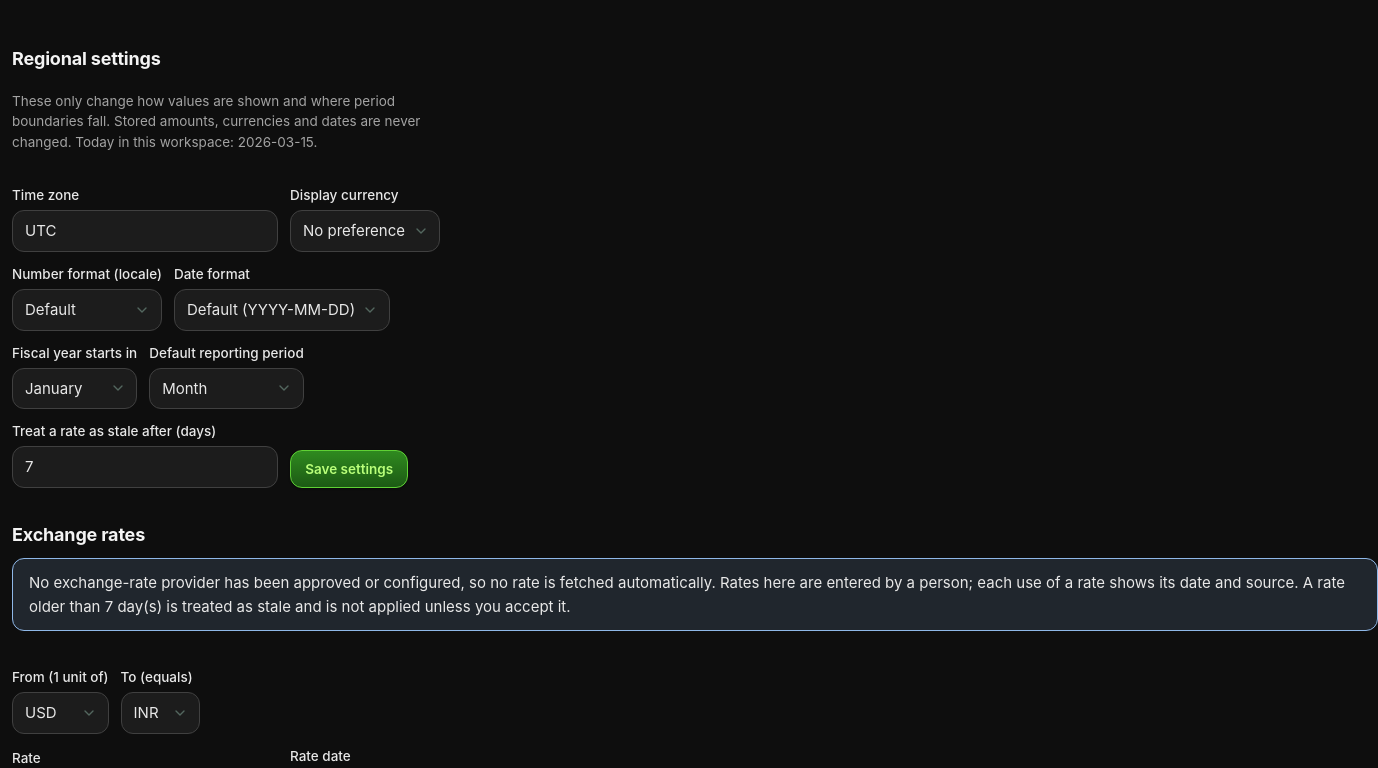
it: regional settings › shows defaults, validates, saves the chosen preferences and confirms
This screenshot has width=1378, height=768.
Expected: the form "Regional settings" is shown, top-left (12, 24), bottom-right (462, 500)
Expected: the text "never changed" is shown, top-left (12, 92), bottom-right (420, 150)
Select "en-IN" in the dropdown labelled "Number format (locale)" at (87, 310), box top-left (12, 289), bottom-right (162, 331)
Select "DD/MM/YYYY" in the dropdown labelled "Date format" at (282, 310), box top-left (174, 289), bottom-right (390, 331)
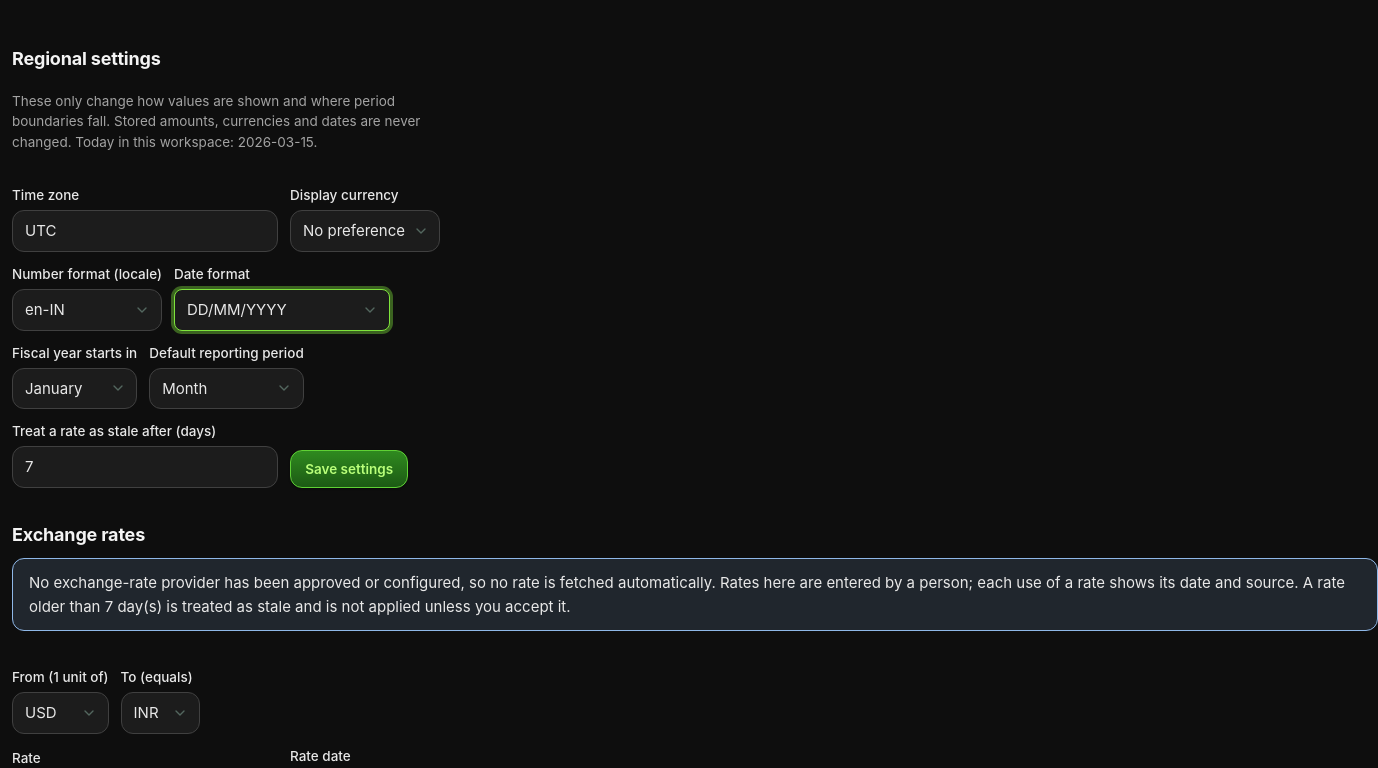
Select "April" in the dropdown labelled "Fiscal year starts in" at (75, 388), box top-left (12, 368), bottom-right (137, 409)
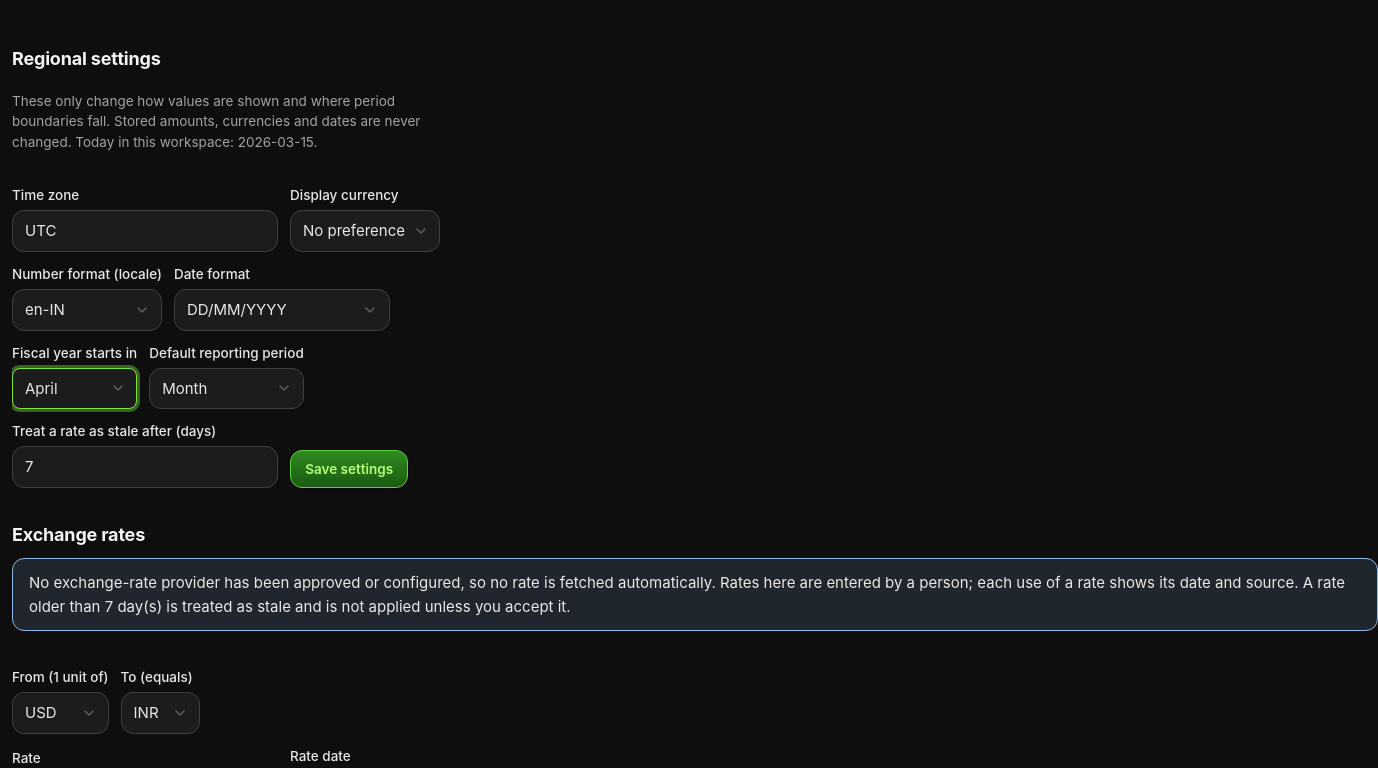
Select "USD" in the dropdown labelled "Display currency" at (365, 231), box top-left (290, 210), bottom-right (440, 252)
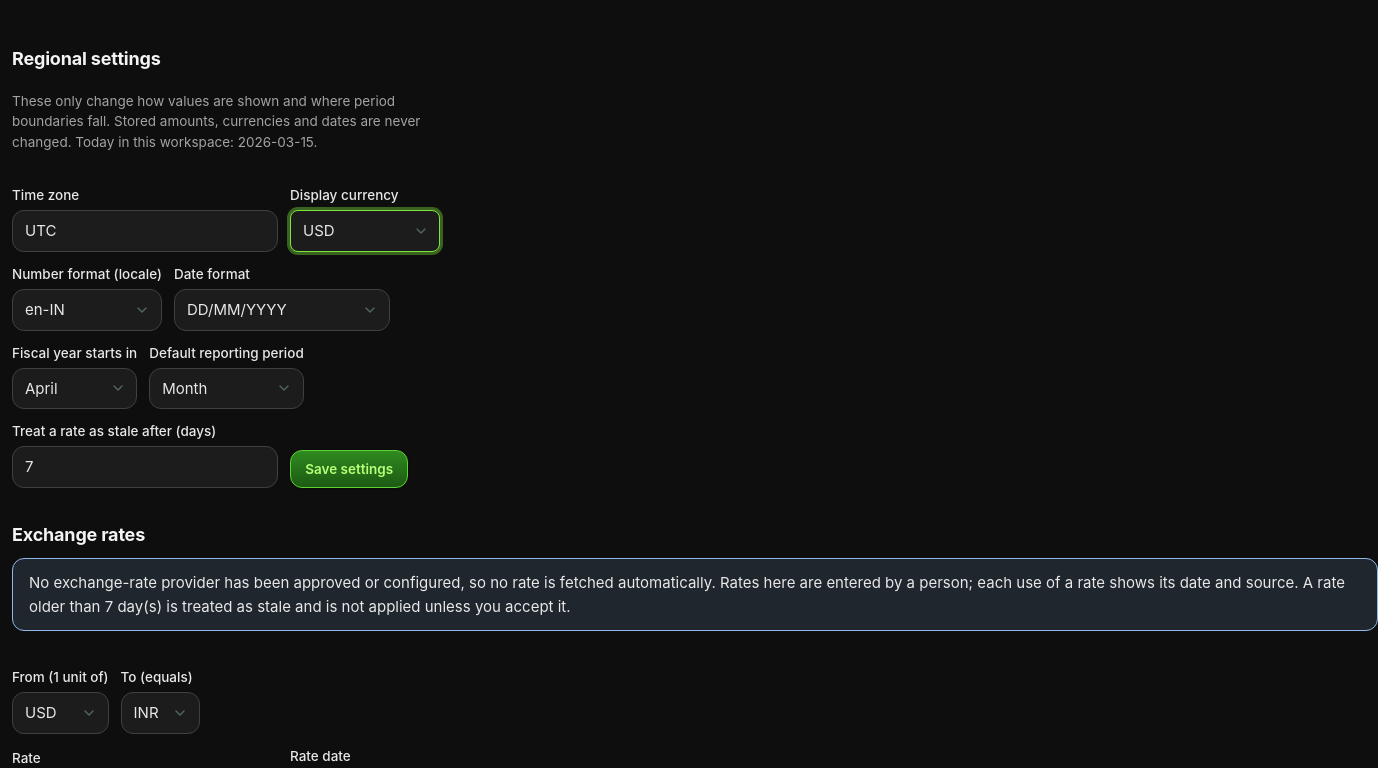
Replace the text in the field labelled "Treat a rate as stale after (days)" with "999" at (145, 467), box top-left (12, 446), bottom-right (278, 488)
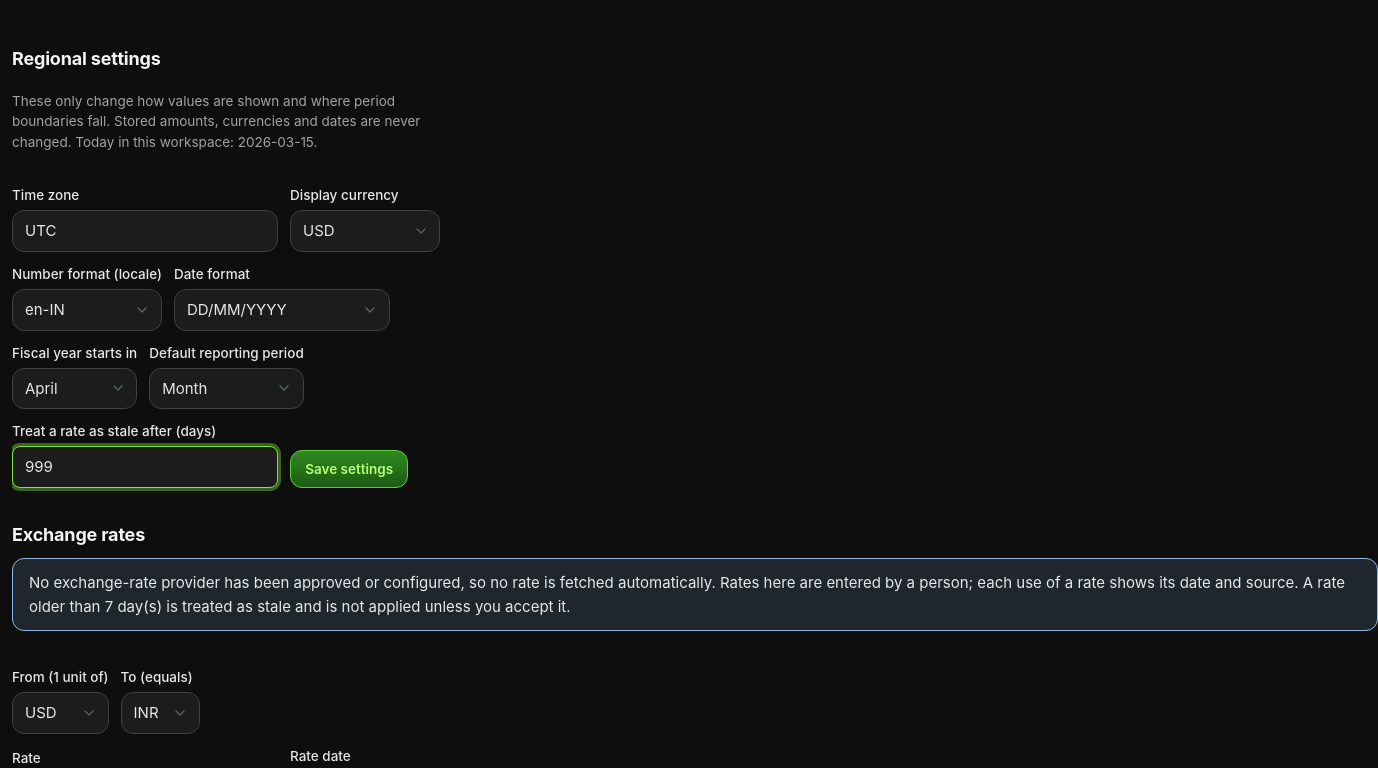
Click the button "Save settings" at (349, 469), box top-left (290, 450), bottom-right (408, 488)
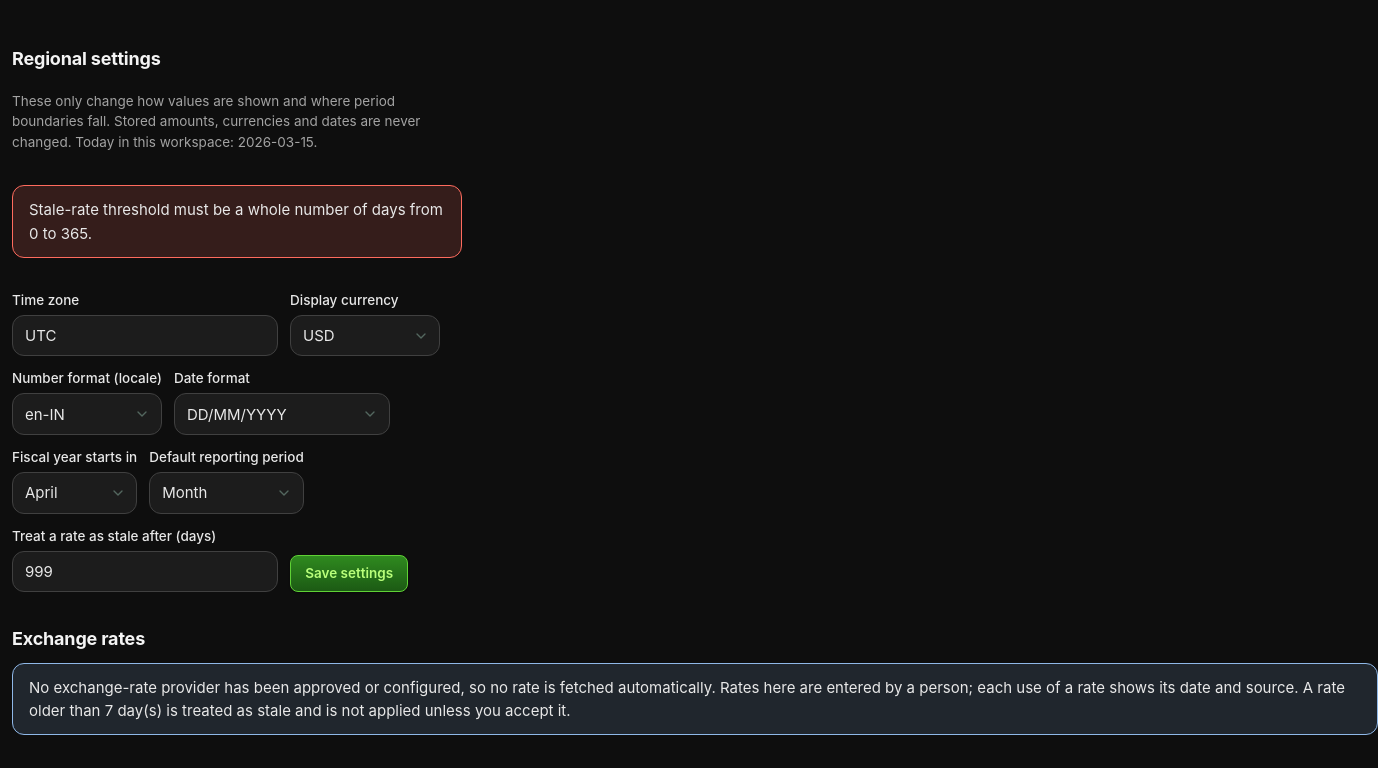
Expected: the message "Stale-rate threshold must be a whole number of days from 0 to 365." is shown, top-left (12, 185), bottom-right (462, 258)
Replace the text in the field labelled "Treat a rate as stale after (days)" with "3" at (145, 572), box top-left (12, 551), bottom-right (278, 592)
Click the button "Save settings" at (349, 573), box top-left (290, 554), bottom-right (408, 592)
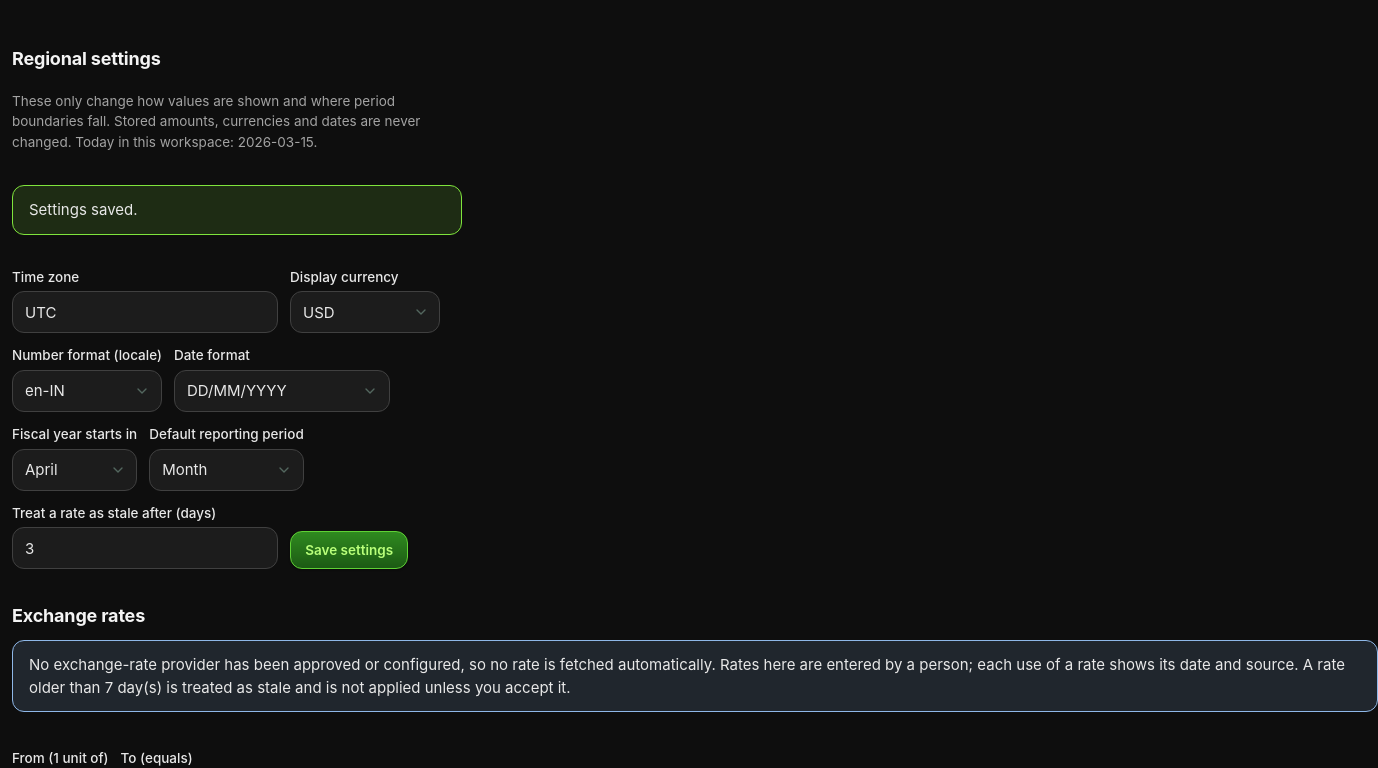
Expected: the text "Settings saved." is shown, top-left (12, 185), bottom-right (462, 235)
